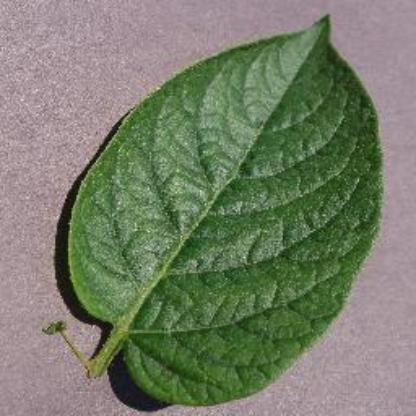Healthy-plant: (45, 10, 391, 408)
